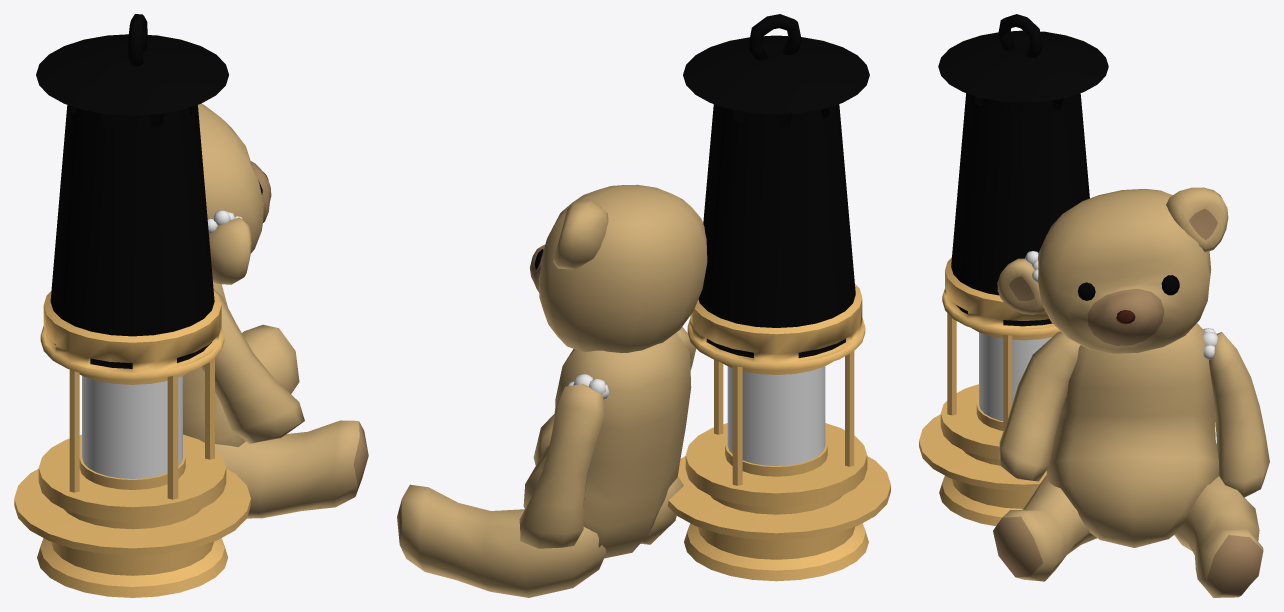
File: checkPoint.fbx
The picture shows the model from 3 angles, left to right: view 1: azimuth 30°, elevation 25°; view 2: azimuth 150°, elevation 25°; view 3: azimuth 270°, elevation 25°; orthographic projection. The views are drawn at different scales.
Parts seen in each view (by area): view 1: Cylinder; view 2: Cylinder; view 3: Cylinder.
Part boxes in pixels (box(x1,y1,x2,y2)): Cylinder: box(14, 14, 368, 597); Cylinder: box(397, 14, 890, 597); Cylinder: box(919, 14, 1269, 597).
Size of the model in its own units: 25.28 by 35.32 by 23.29.
